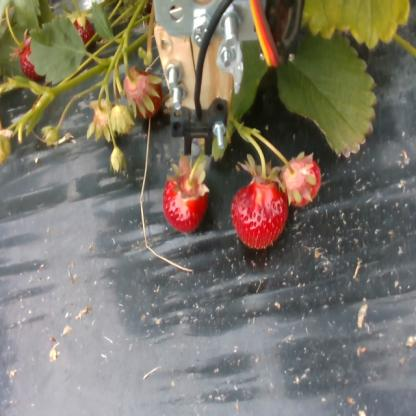ripe: (231, 182, 288, 250), (162, 174, 212, 232), (278, 154, 323, 209), (128, 68, 163, 122), (60, 16, 93, 63), (13, 38, 51, 77)
